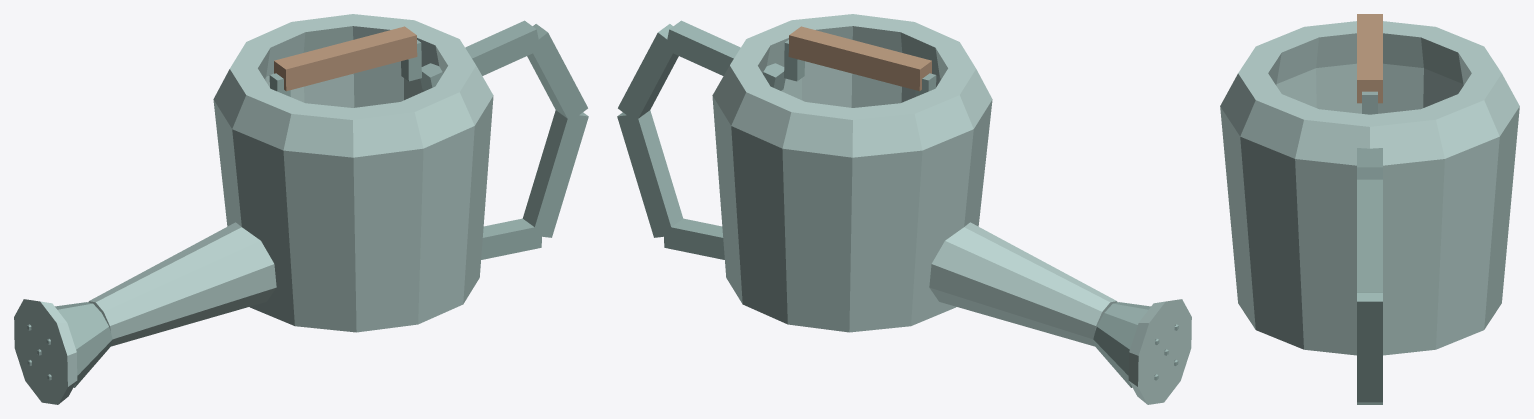
File: crafted-tool-watering-can-3.glb
The picture shows the model from 3 angles, left to right: view 1: azimuth 30°, elevation 25°; view 2: azimuth 150°, elevation 25°; view 3: azimuth 270°, elevation 25°; orthographic projection. The views are drawn at different scales.
Parts seen in each view (by area): view 1: vessel, spout, rose, top-grip, handle-2, handle, handle-1, rose-neck, handle-3, grip-support-1; view 2: vessel, spout, rose, top-grip, handle-2, handle, handle-1, rose-neck, handle-3, grip-support-1; view 3: vessel, handle-1, handle-2, top-grip, handle, grip-support-1.
Boxes of the visible parts, x1,y1,x2,y2 form: vessel: (213,14,493,332); spout: (88,222,276,346); rose: (14,299,77,404); top-grip: (274,26,417,91); handle-2: (522,110,588,237); handle: (420,20,540,90); handle-1: (527,24,587,121); rose-neck: (55,302,112,387); handle-3: (481,218,542,259); grip-support-1: (401,40,421,81); vessel: (712,14,992,332); spout: (929,222,1117,346); rose: (1128,299,1191,404); top-grip: (788,26,931,91); handle-2: (617,110,683,237); handle: (665,20,785,90); handle-1: (618,24,678,121); rose-neck: (1093,302,1150,387); handle-3: (663,218,724,259); grip-support-1: (784,40,804,81); vessel: (1220,21,1519,355); handle-1: (1357,179,1382,292); handle-2: (1357,292,1382,402); top-grip: (1357,14,1382,103); handle: (1357,148,1382,179); grip-support-1: (1362,91,1377,114).
Size of the model in its own units: 1.12 by 0.5549 by 0.5.
